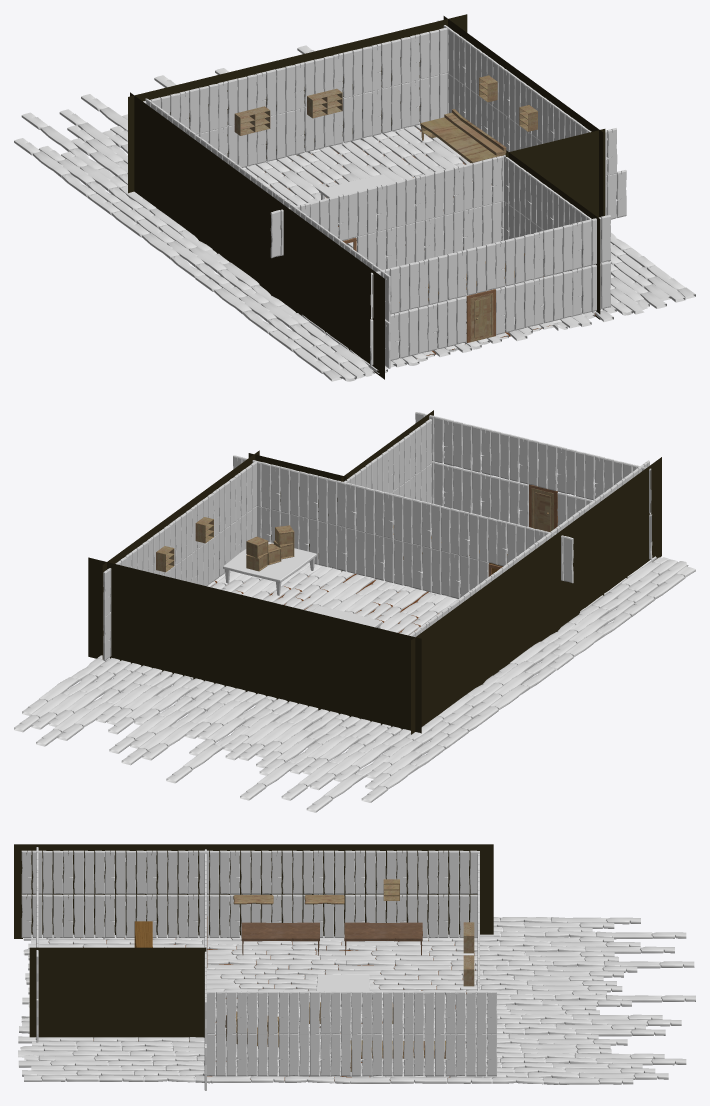
The model's file is scène.fbx.
3 renders of one model, top to bottom at view 1: azimuth 30°, elevation 25°; view 2: azimuth 150°, elevation 25°; view 3: azimuth 270°, elevation 25°, orthographic. The views are drawn at different scales.
Visible parts, largest first — view 1: MURV2, derrière mur, SOLV2.001, bureau, porte.001, étagères.002, étagères.003, tables.003; view 2: derrière mur, MURV2, SOLV2.001, tables.004, porte.001; view 3: MURV2, SOLV2.001, derrière mur, tables.001, tables.002, tables.003, contoir.
Boxes of the visible parts, box(x1,y1,x2,y2) form: MURV2: box(143, 20, 626, 368); derrière mur: box(128, 14, 605, 379); SOLV2.001: box(14, 45, 695, 381); bureau: box(420, 109, 506, 163); porte.001: box(470, 293, 493, 341); étagères.002: box(234, 106, 270, 135); étagères.003: box(307, 88, 342, 118); tables.003: box(319, 174, 393, 199); derrière mur: box(88, 410, 661, 734); MURV2: box(103, 412, 652, 660); SOLV2.001: box(14, 512, 695, 812); tables.004: box(223, 542, 316, 595); porte.001: box(531, 488, 553, 531); MURV2: box(21, 847, 497, 1090); SOLV2.001: box(18, 917, 695, 1084); derrière mur: box(14, 844, 493, 1041); tables.001: box(241, 922, 319, 955); tables.002: box(344, 922, 422, 955); tables.003: box(316, 974, 369, 1006); contoir: box(134, 921, 152, 947).
Bounding box in the file's own units: 1827 × 460 × 2965.
